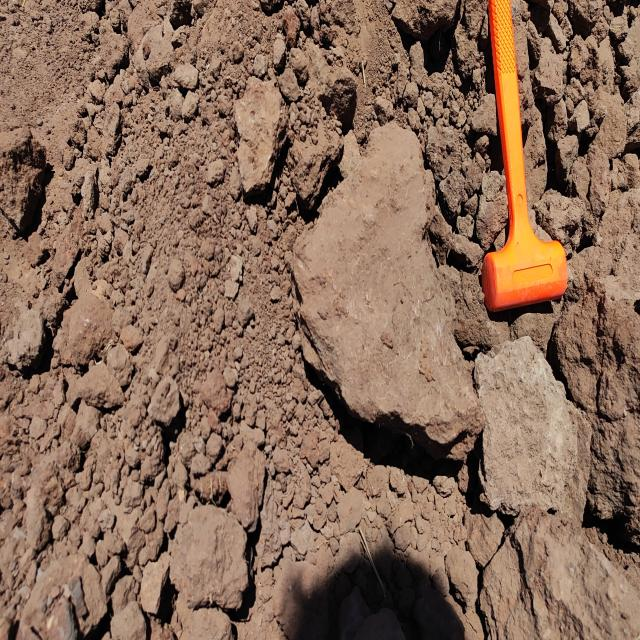Orange_hammer: (480, 0, 568, 314)
